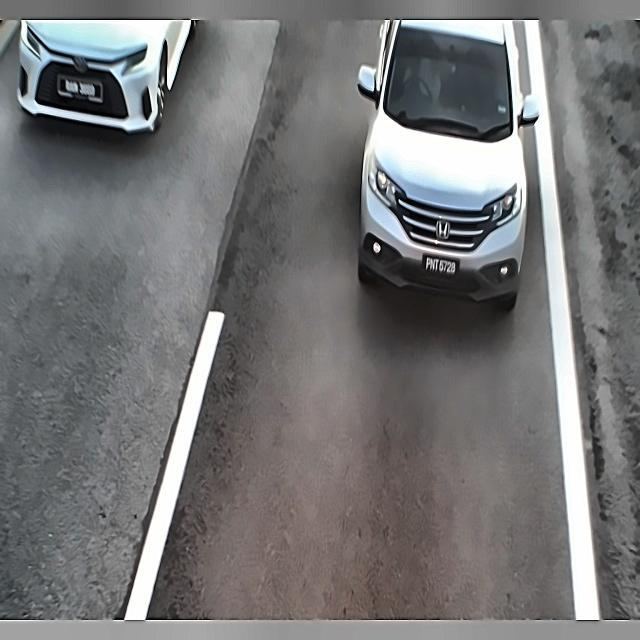car: (54, 72, 104, 106), (422, 244, 463, 281)
